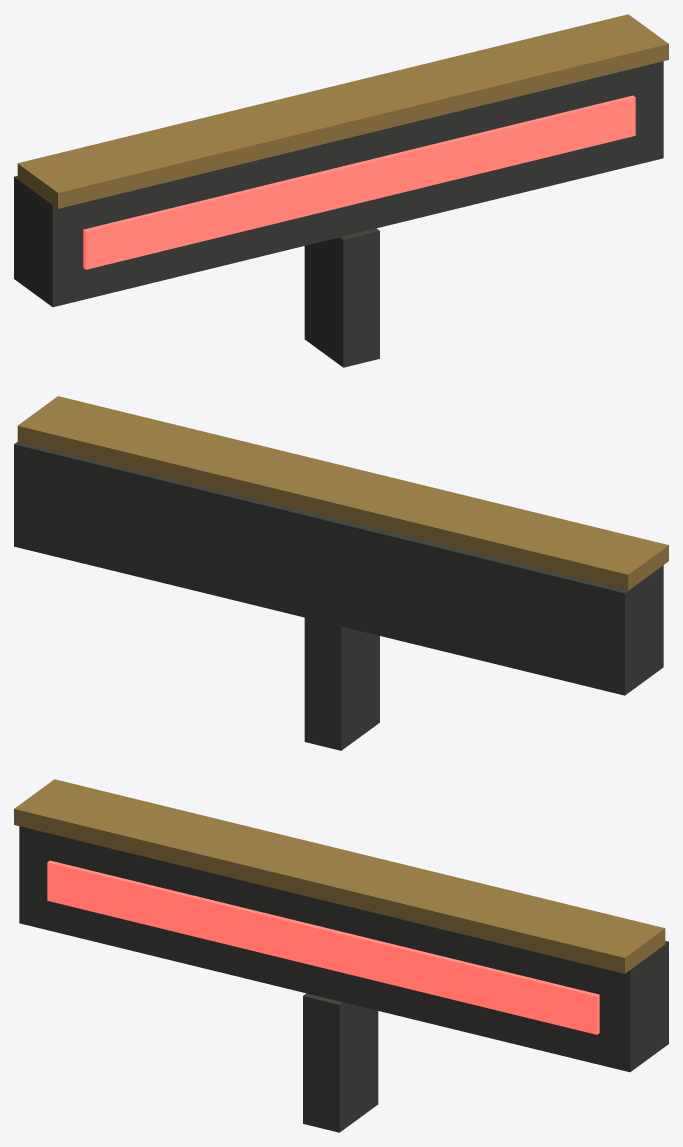
Rendered from b4_band.glb.
3 views of the same model, one above another, from view 1: azimuth 30°, elevation 25°; view 2: azimuth 150°, elevation 25°; view 3: azimuth 330°, elevation 25° (orthographic).
Visible parts, largest first — view 1: b4_band; view 2: b4_band; view 3: b4_band.
Boxes of the visible parts, x1,y1,x2,y2 form: b4_band: (14, 14, 668, 367); b4_band: (14, 396, 668, 750); b4_band: (14, 779, 668, 1132).
Bounding box in the file's own units: 2 × 0.77 × 0.25.
